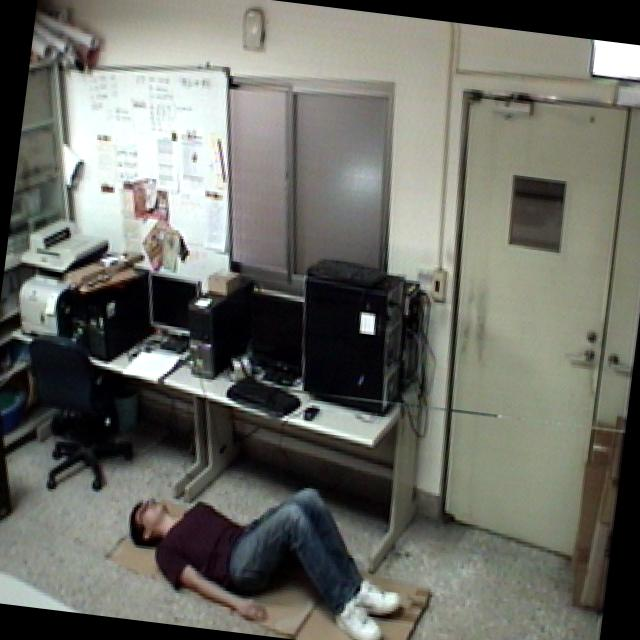lie: (109, 460, 416, 640)
